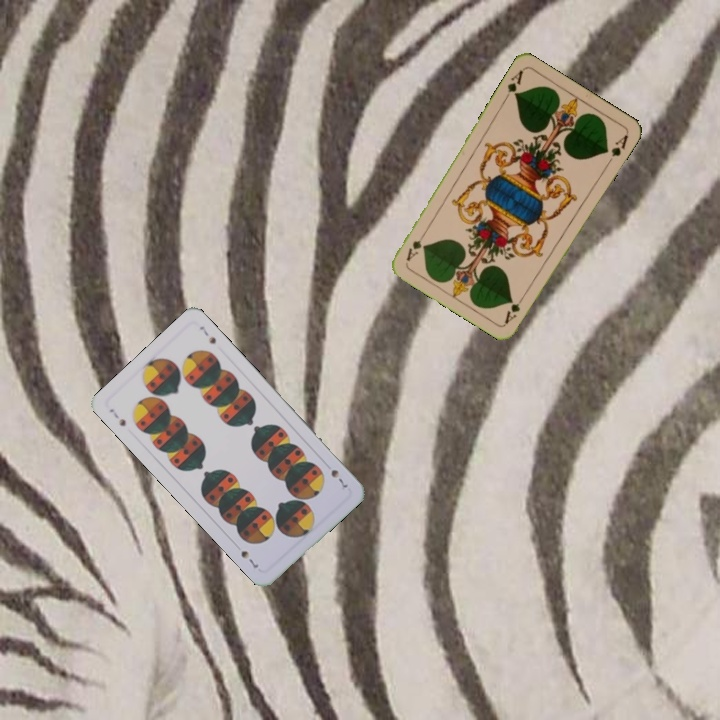GA: (500, 290, 528, 326), (500, 66, 526, 103)
S7: (327, 465, 350, 490), (105, 405, 128, 429)
